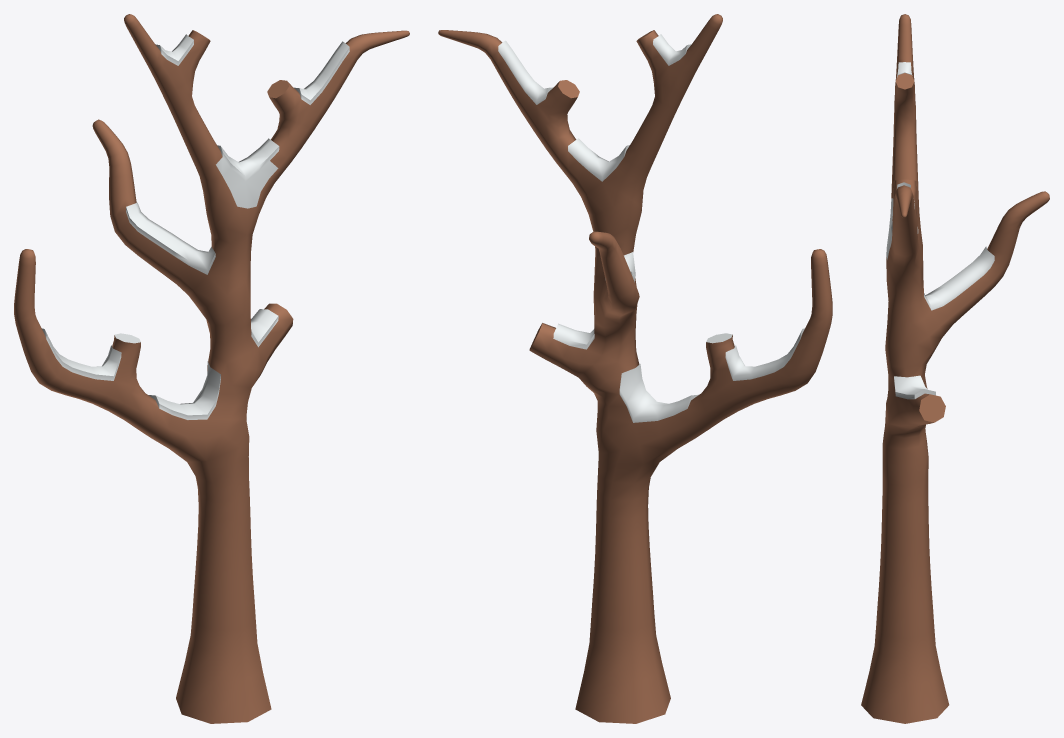
File: Tree near the ladder 2.fbx
3 views of the same model, side by side, from view 1: azimuth 30°, elevation 25°; view 2: azimuth 150°, elevation 25°; view 3: azimuth 270°, elevation 25° (orthographic). The views are drawn at different scales.
Visible parts, largest first — view 1: Tree near the ladder 2; view 2: Tree near the ladder 2; view 3: Tree near the ladder 2.
Boxes of the visible parts, bbox=[...] form: Tree near the ladder 2: bbox=[14, 14, 409, 723]; Tree near the ladder 2: bbox=[438, 14, 832, 723]; Tree near the ladder 2: bbox=[861, 14, 1049, 723].
Size of the model in its own units: 2419 by 4185 by 1104.
